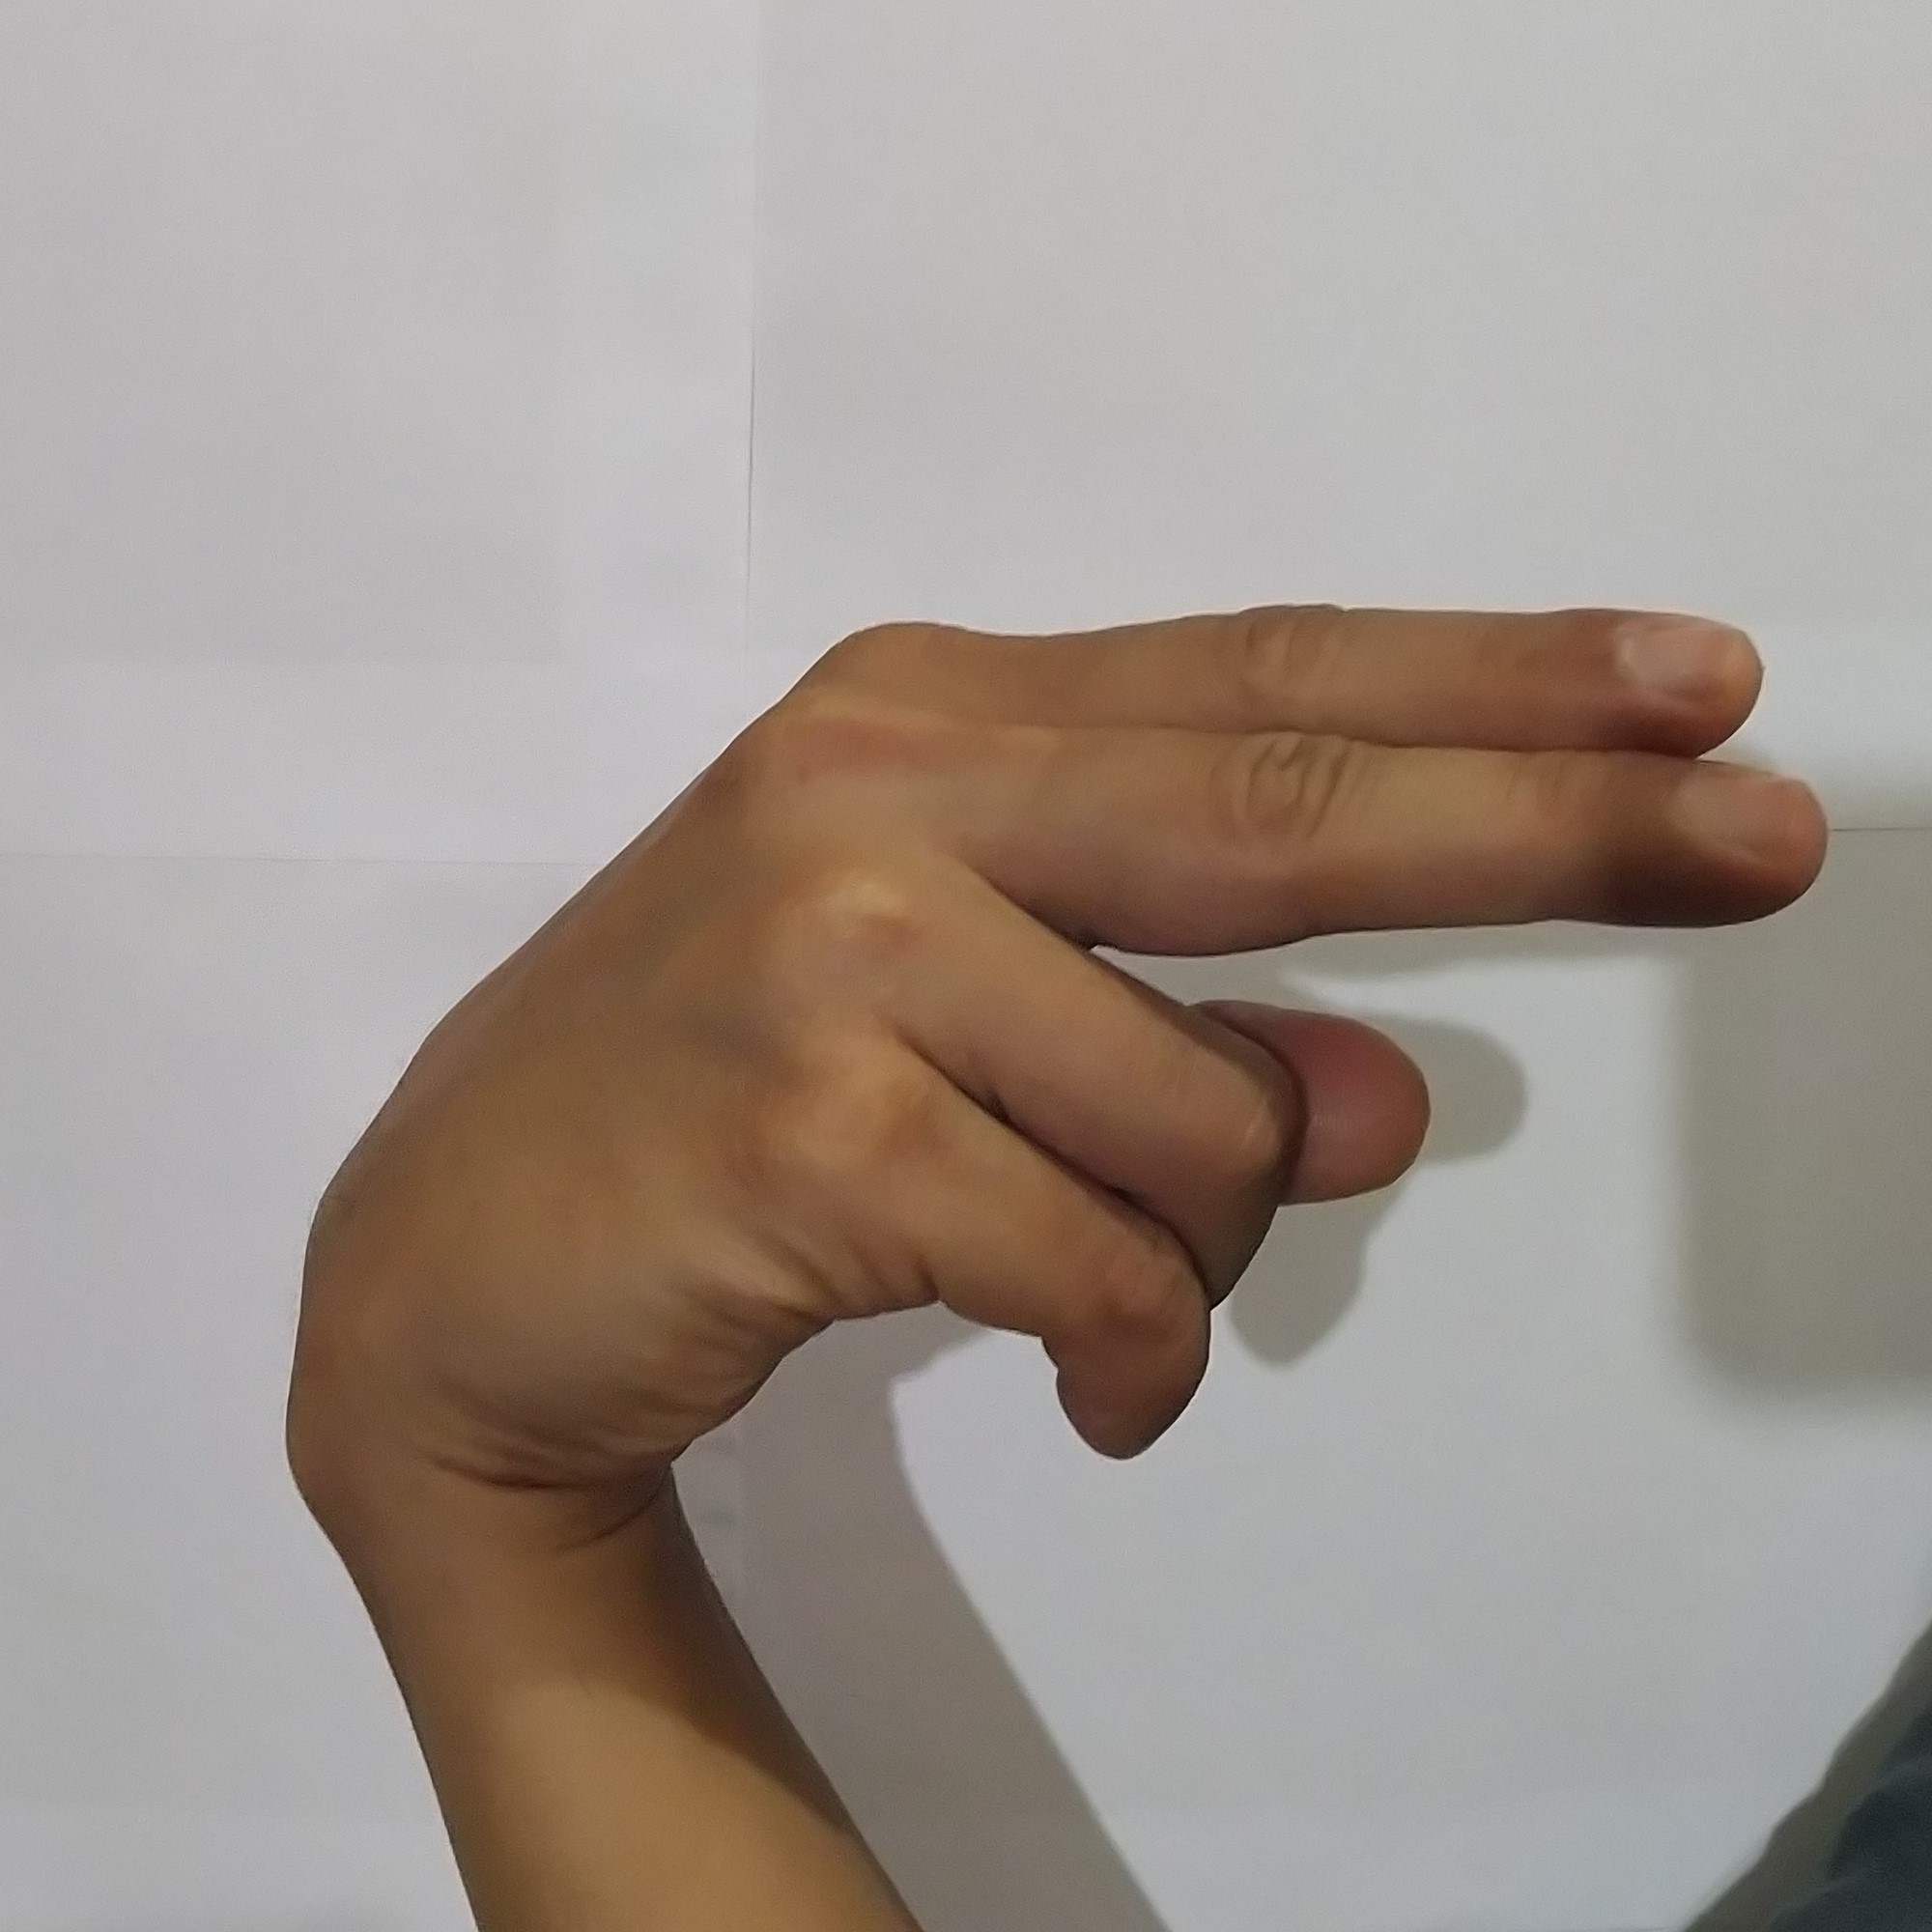H: (287, 573, 1856, 1490)
